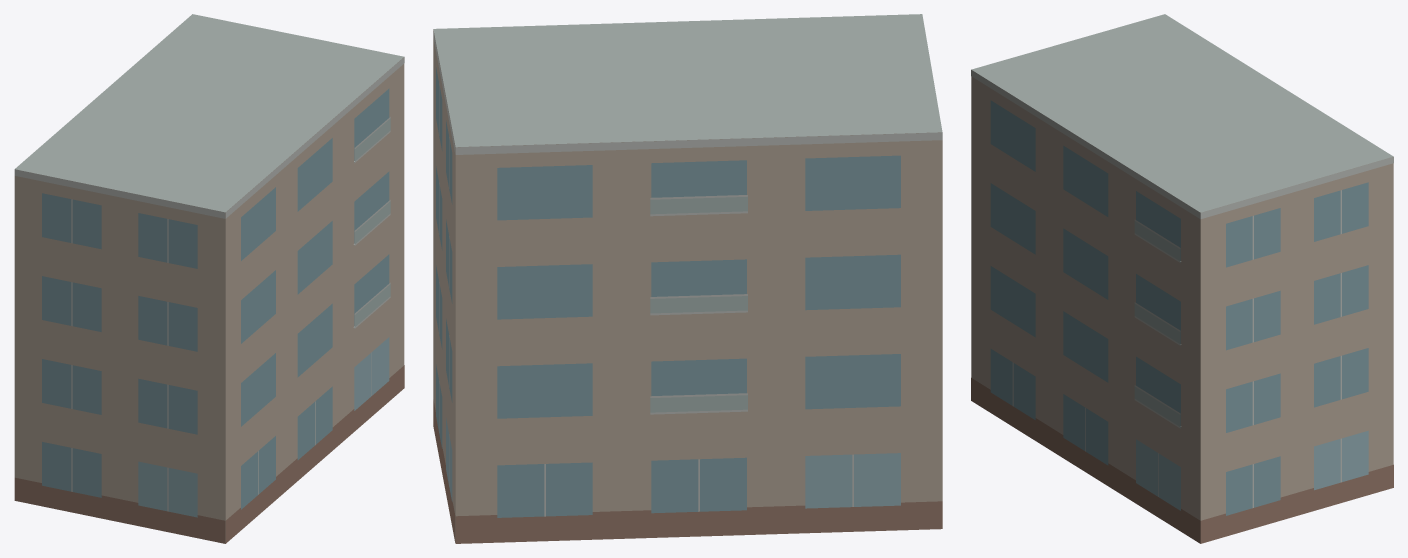
Rendered from survey-upis-32914297.glb.
3 renders of one model, left to right at view 1: azimuth 30°, elevation 25°; view 2: azimuth 150°, elevation 25°; view 3: azimuth 270°, elevation 25°, orthographic. The views are drawn at different scales.
Parts seen in each view (by area): view 1: survey-upis-32914297.tmp; view 2: survey-upis-32914297.tmp; view 3: survey-upis-32914297.tmp.
Boxes of the visible parts, <box> form: survey-upis-32914297.tmp: <box>14,14,404,543</box>; survey-upis-32914297.tmp: <box>433,14,942,543</box>; survey-upis-32914297.tmp: <box>971,14,1393,543</box>.
Size of the model in its own units: 15.84 by 12.3 by 14.24.
